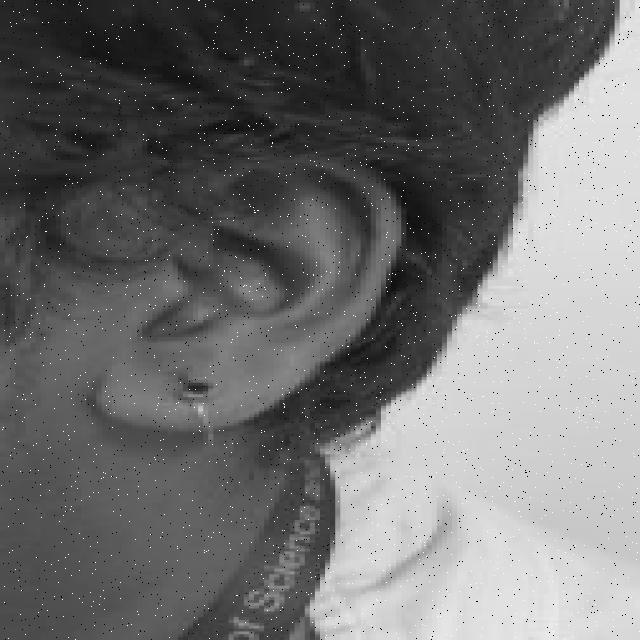ear: (91, 160, 396, 426)
